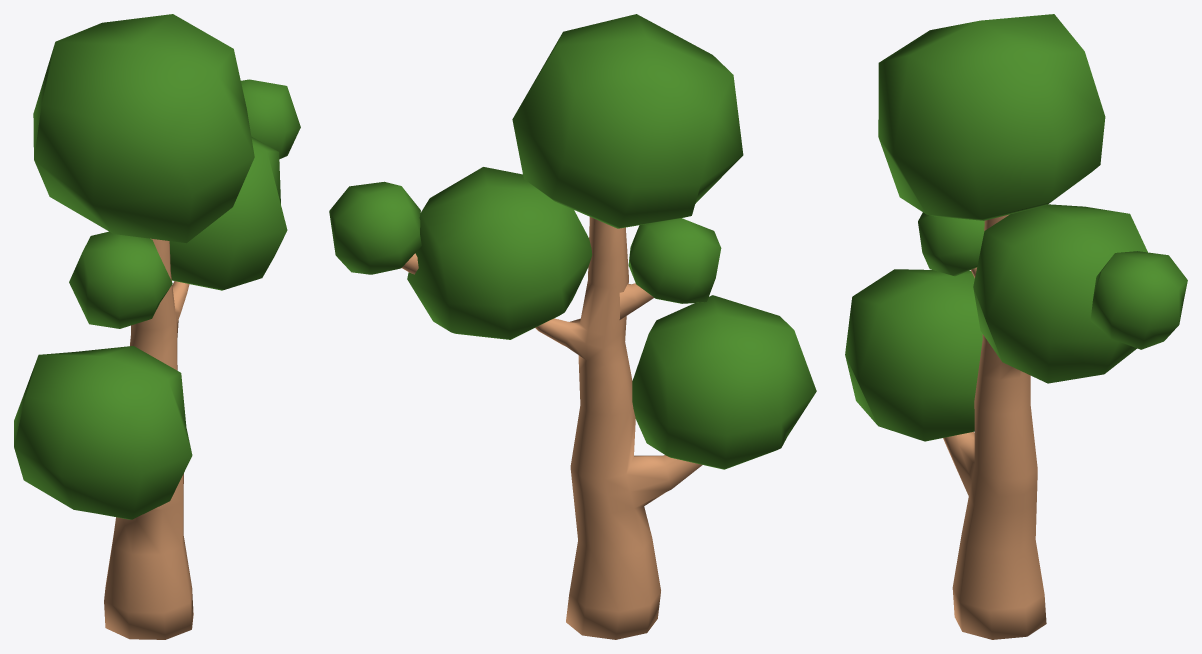
The model's file is large tree.fbx.
3 views of the same model, side by side, from view 1: azimuth 30°, elevation 25°; view 2: azimuth 150°, elevation 25°; view 3: azimuth 270°, elevation 25° (orthographic).
Visible parts, largest first — view 1: Cylinder.024; view 2: Cylinder.024; view 3: Cylinder.024.
Part boxes in pixels (<box>): Cylinder.024: <box>14,14,300,639</box>; Cylinder.024: <box>329,14,816,639</box>; Cylinder.024: <box>845,14,1187,639</box>.
Bounding box in the file's own units: 291 × 452 × 239.
